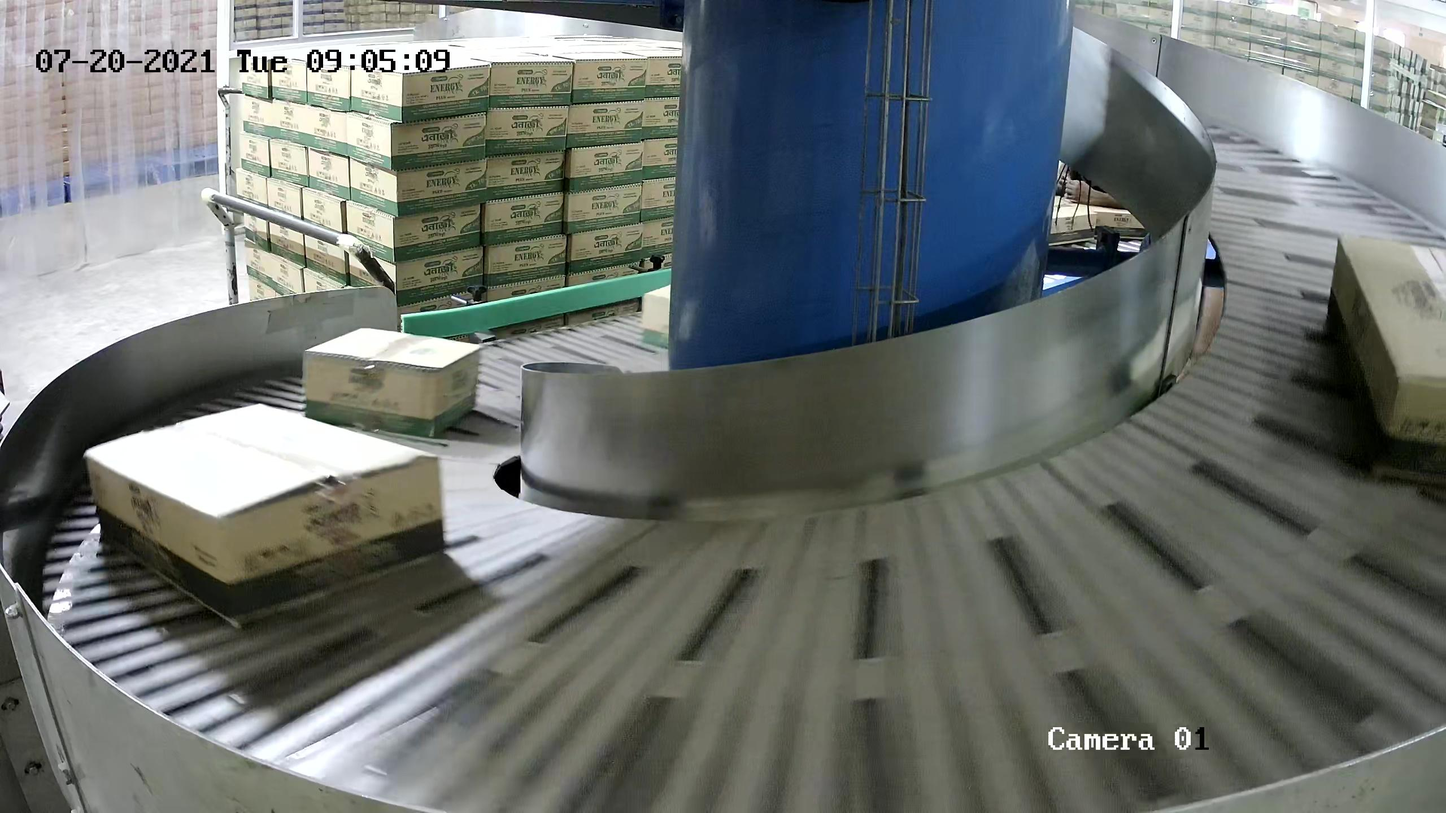Box: (83, 400, 448, 634), (1324, 231, 1446, 492), (300, 326, 482, 440)
